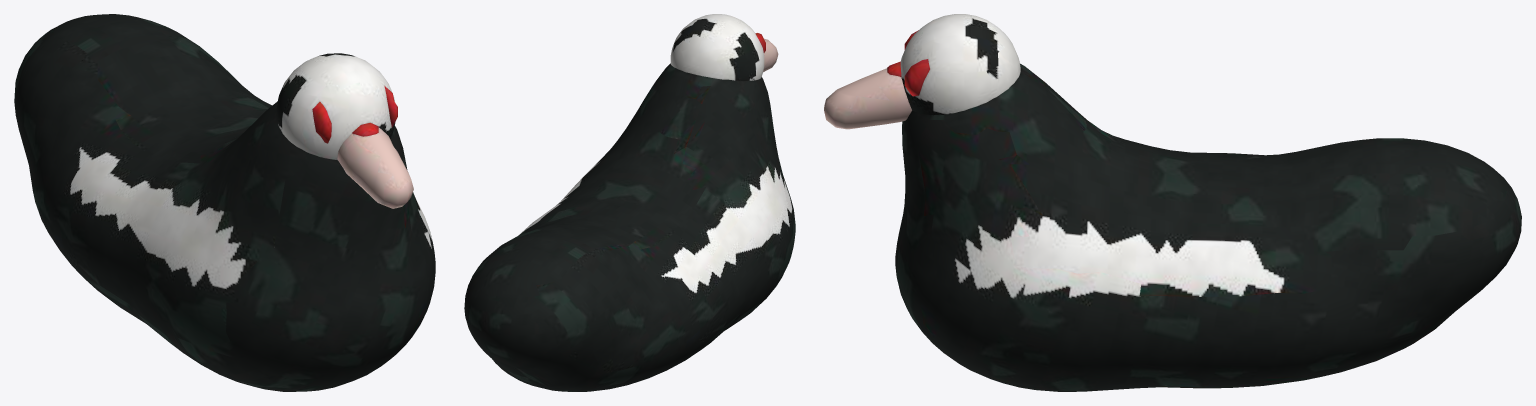
Rendered from animal_muscovy_duck.glb.
3 views of the same model, side by side, from view 1: azimuth 30°, elevation 25°; view 2: azimuth 150°, elevation 25°; view 3: azimuth 270°, elevation 25° (orthographic). The views are drawn at different scales.
Parts seen in each view (by area): view 1: animal_muscovy_duck, head; view 2: animal_muscovy_duck, head; view 3: animal_muscovy_duck, head.
Part boxes in pixels (box(x1,y1,x2,y2)): animal_muscovy_duck: box(14, 14, 435, 391); head: box(276, 53, 413, 208); animal_muscovy_duck: box(464, 33, 795, 391); head: box(670, 14, 778, 80); animal_muscovy_duck: box(887, 30, 1521, 391); head: box(824, 14, 1020, 129).
Size of the model in its own units: 0.1618 by 0.2091 by 0.3712.
Materials: 1 (1 with a texture image).
